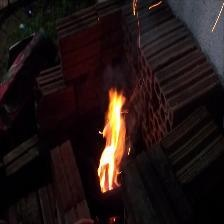fire: (89, 81, 138, 206)
